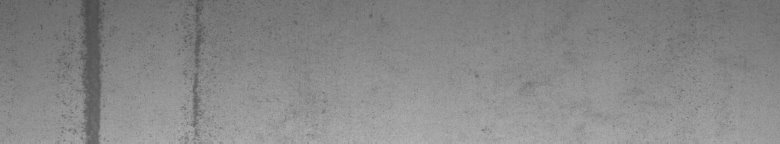hd: (172, 4, 210, 136)
